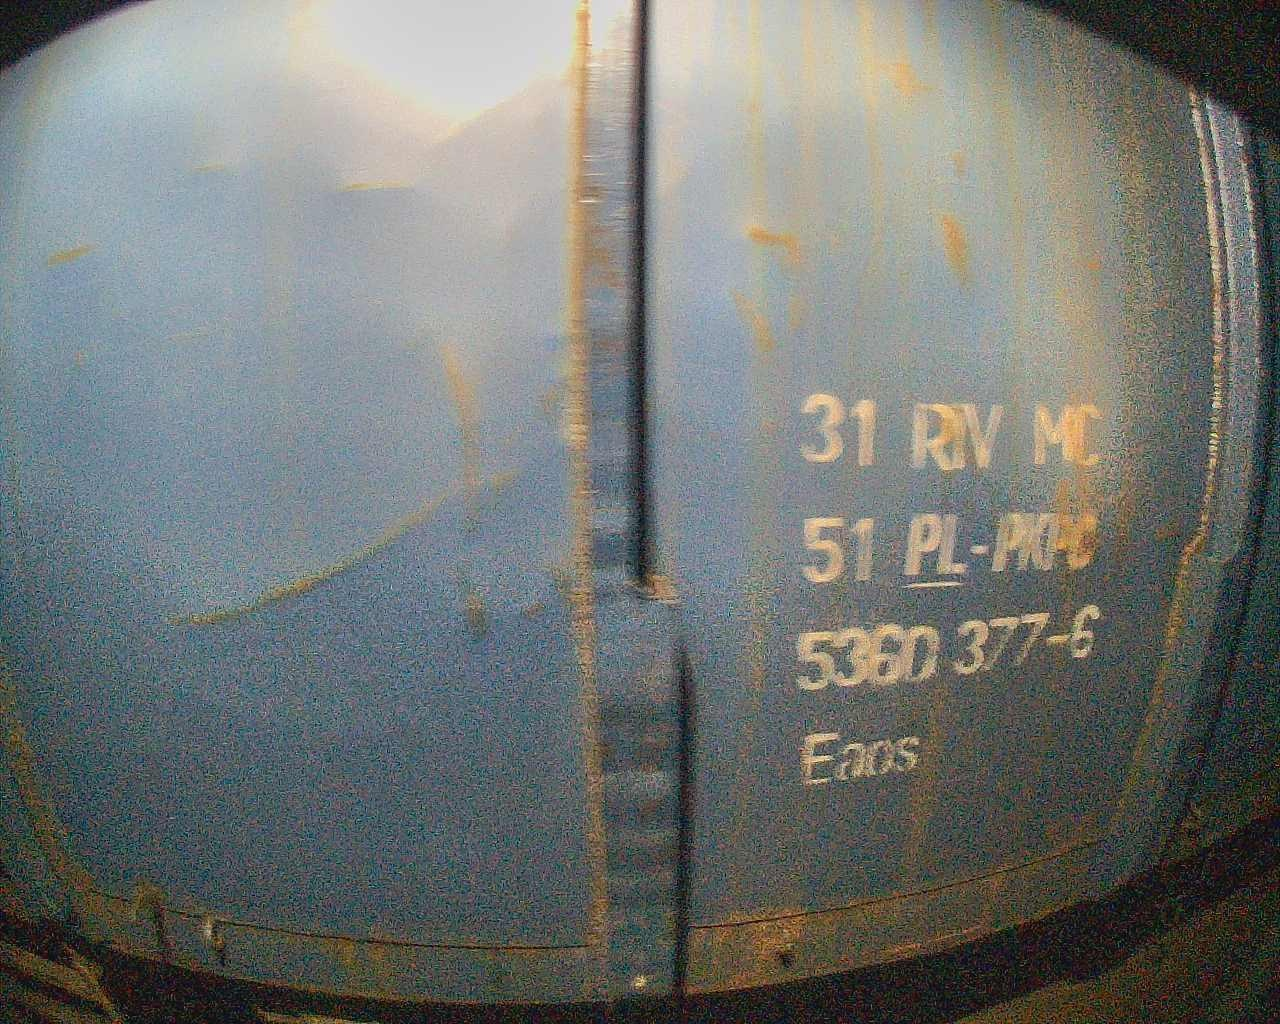UIC: (795, 388, 1106, 789)
